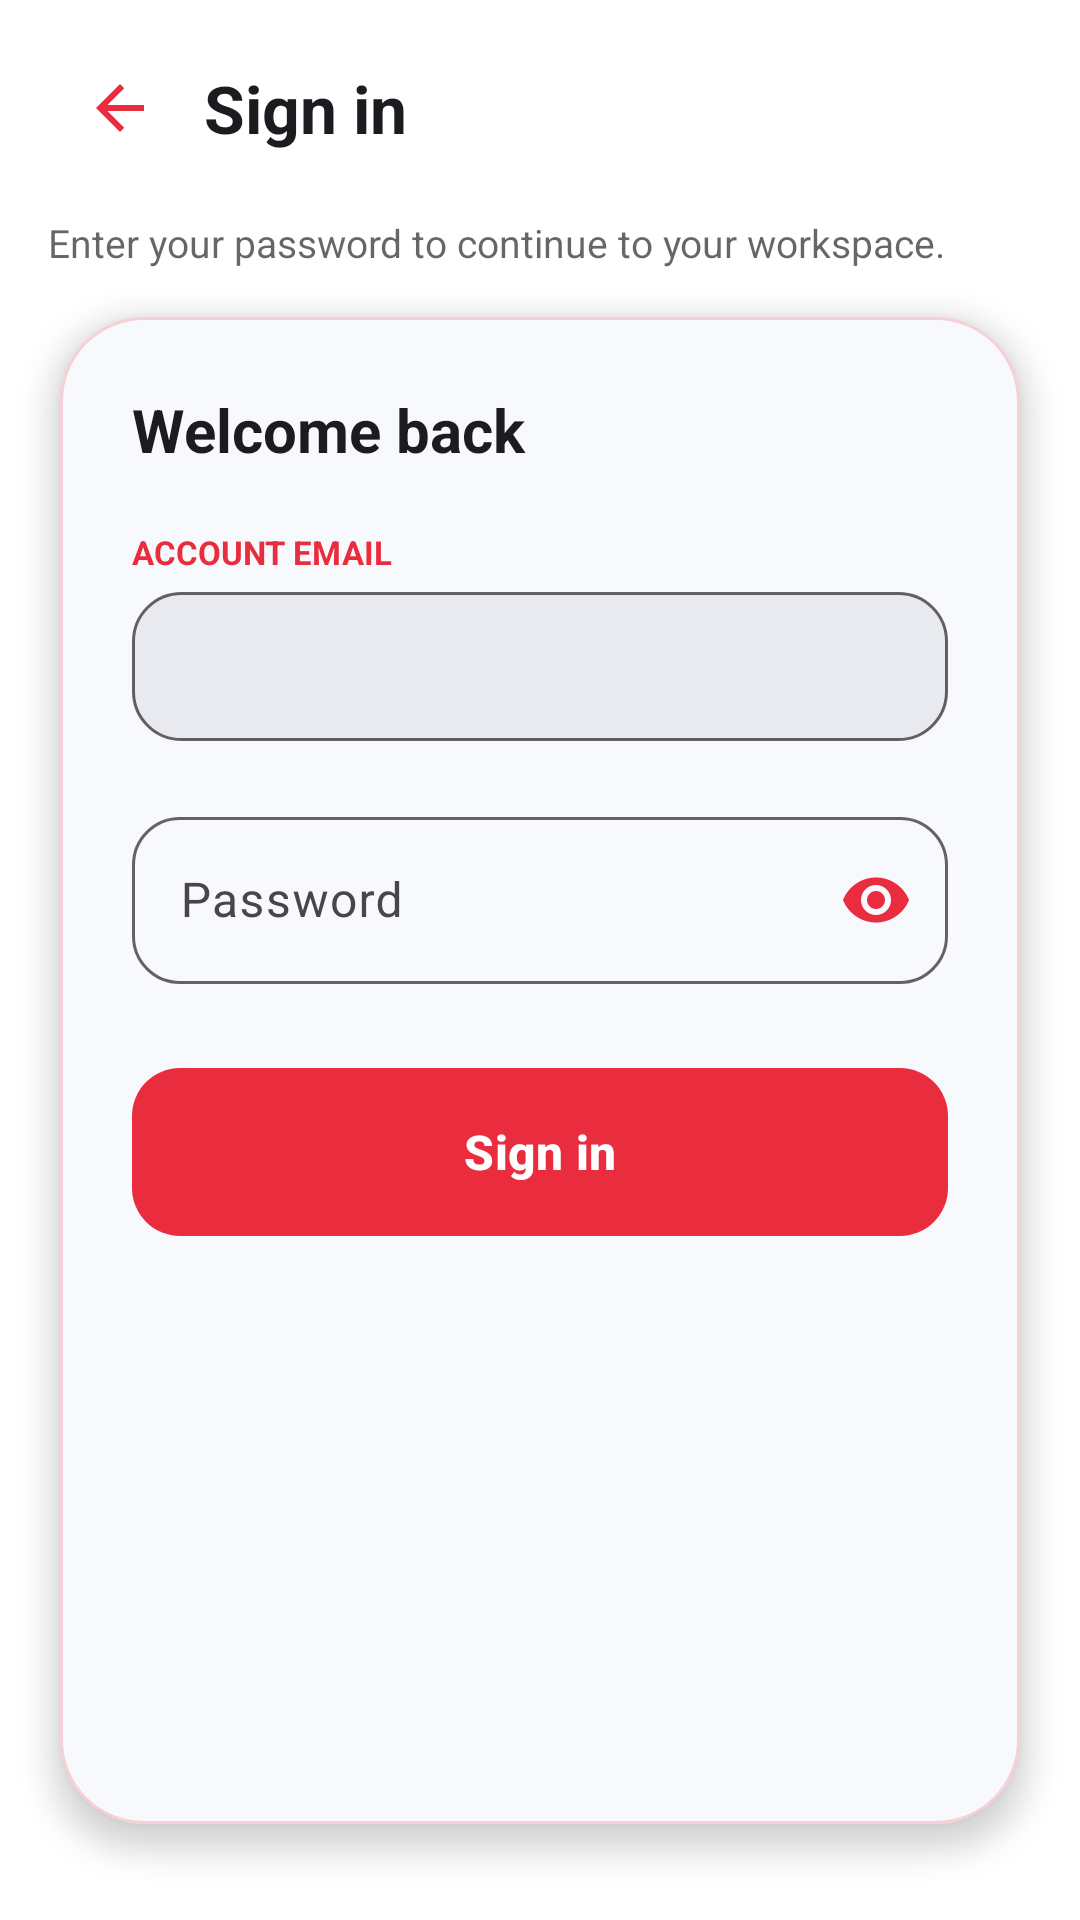

Screen size 1080x1920. Icon name, then its box in pixels as (x1, y1, x2, y2):
Back: (96, 84, 144, 132)
